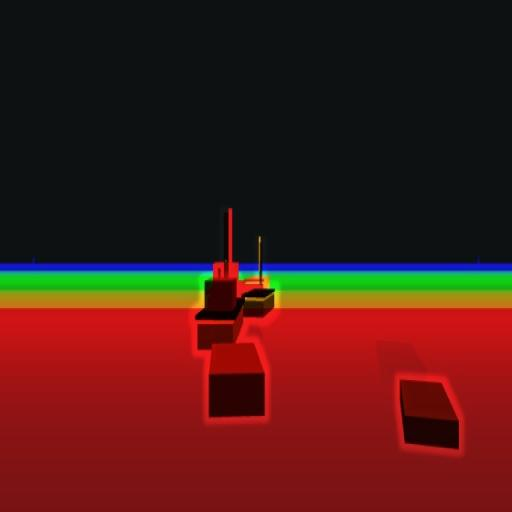debris_container: (399, 374, 462, 452), (206, 340, 266, 418)
vessel: (193, 220, 243, 350)
